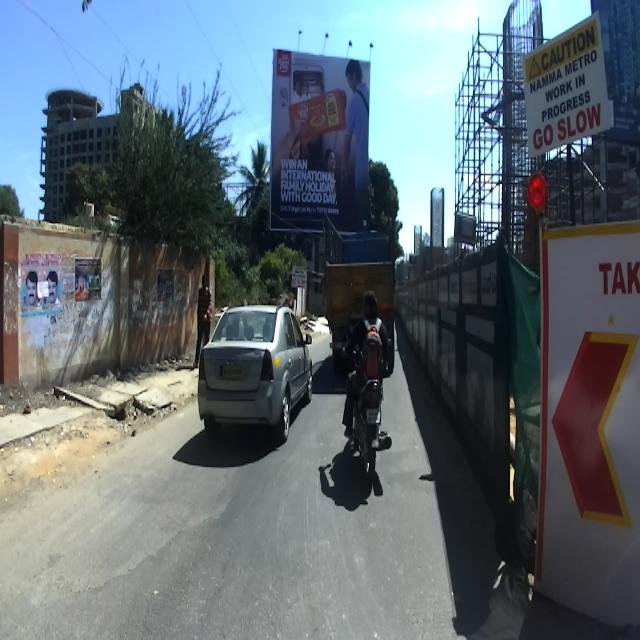car ahead at: (193, 292, 319, 470)
motorcycle ahead at: (343, 372, 394, 484)
